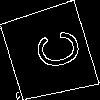C: (24, 27, 84, 75)
